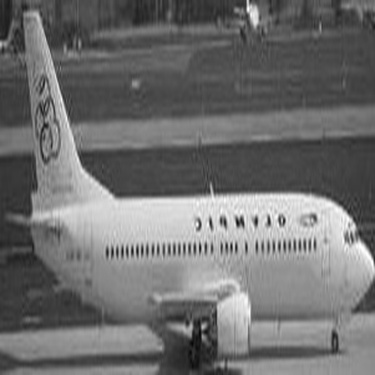airplane: (8, 8, 373, 371)
